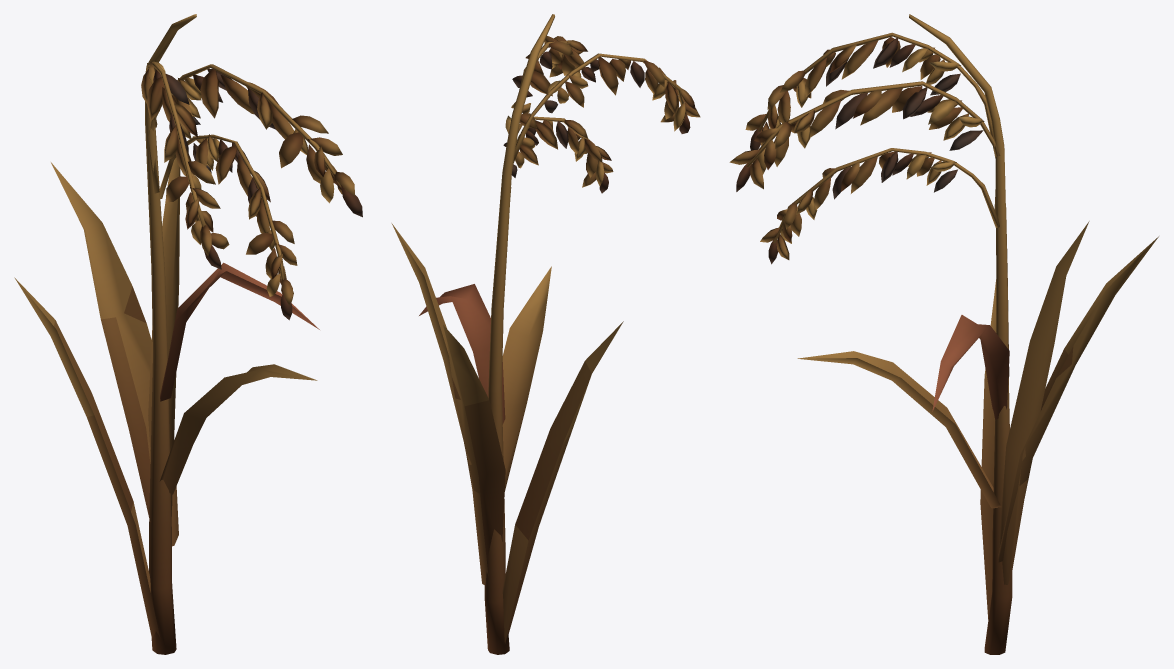
The model's file is SM_BrownRiceCrop_01.fbx.
3 renders of one model, left to right at view 1: azimuth 30°, elevation 25°; view 2: azimuth 150°, elevation 25°; view 3: azimuth 270°, elevation 25°, orthographic. The views are drawn at different scales.
Visible parts, largest first — view 1: SM_BrownRiceCrop_01; view 2: SM_BrownRiceCrop_01; view 3: SM_BrownRiceCrop_01.
Part boxes in pixels (box(x1,y1,x2,y2)): SM_BrownRiceCrop_01: box(14, 14, 362, 654); SM_BrownRiceCrop_01: box(391, 14, 700, 654); SM_BrownRiceCrop_01: box(729, 14, 1158, 654).
Size of the model in its own units: 1.69 by 4.09 by 2.52.
